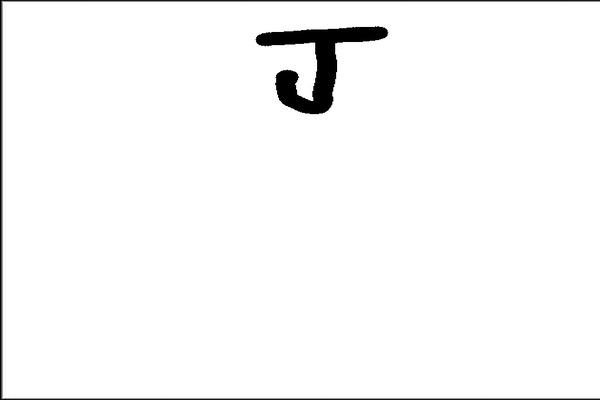J: (248, 21, 393, 115)
